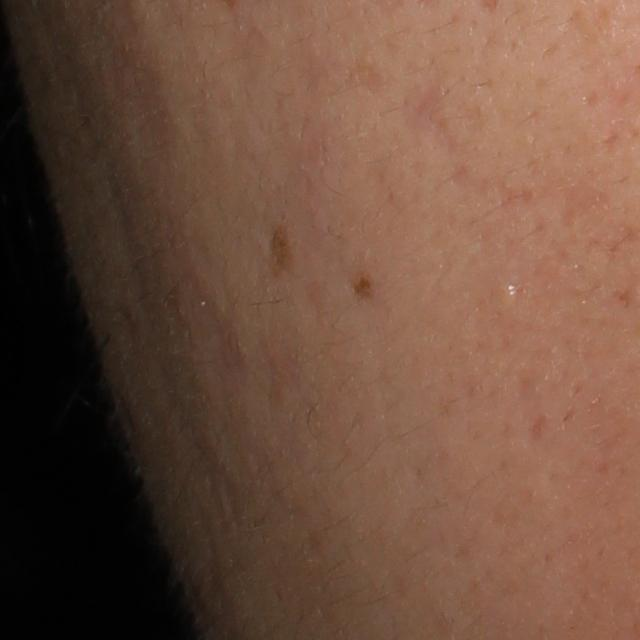atrophic_scar: (402, 73, 460, 155), (560, 177, 616, 225)
comedo: (489, 279, 520, 311)
melasma: (266, 221, 301, 279), (351, 272, 377, 301)
